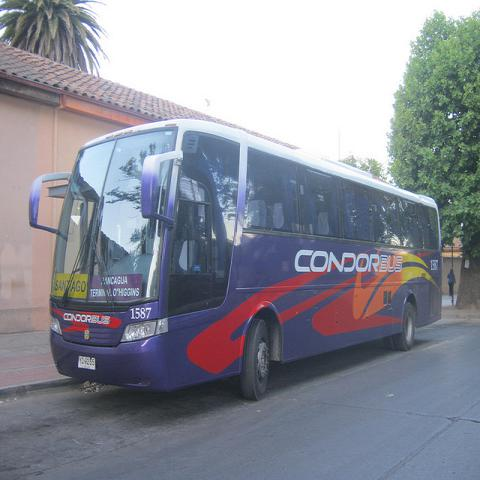bus: (29, 120, 443, 399)
